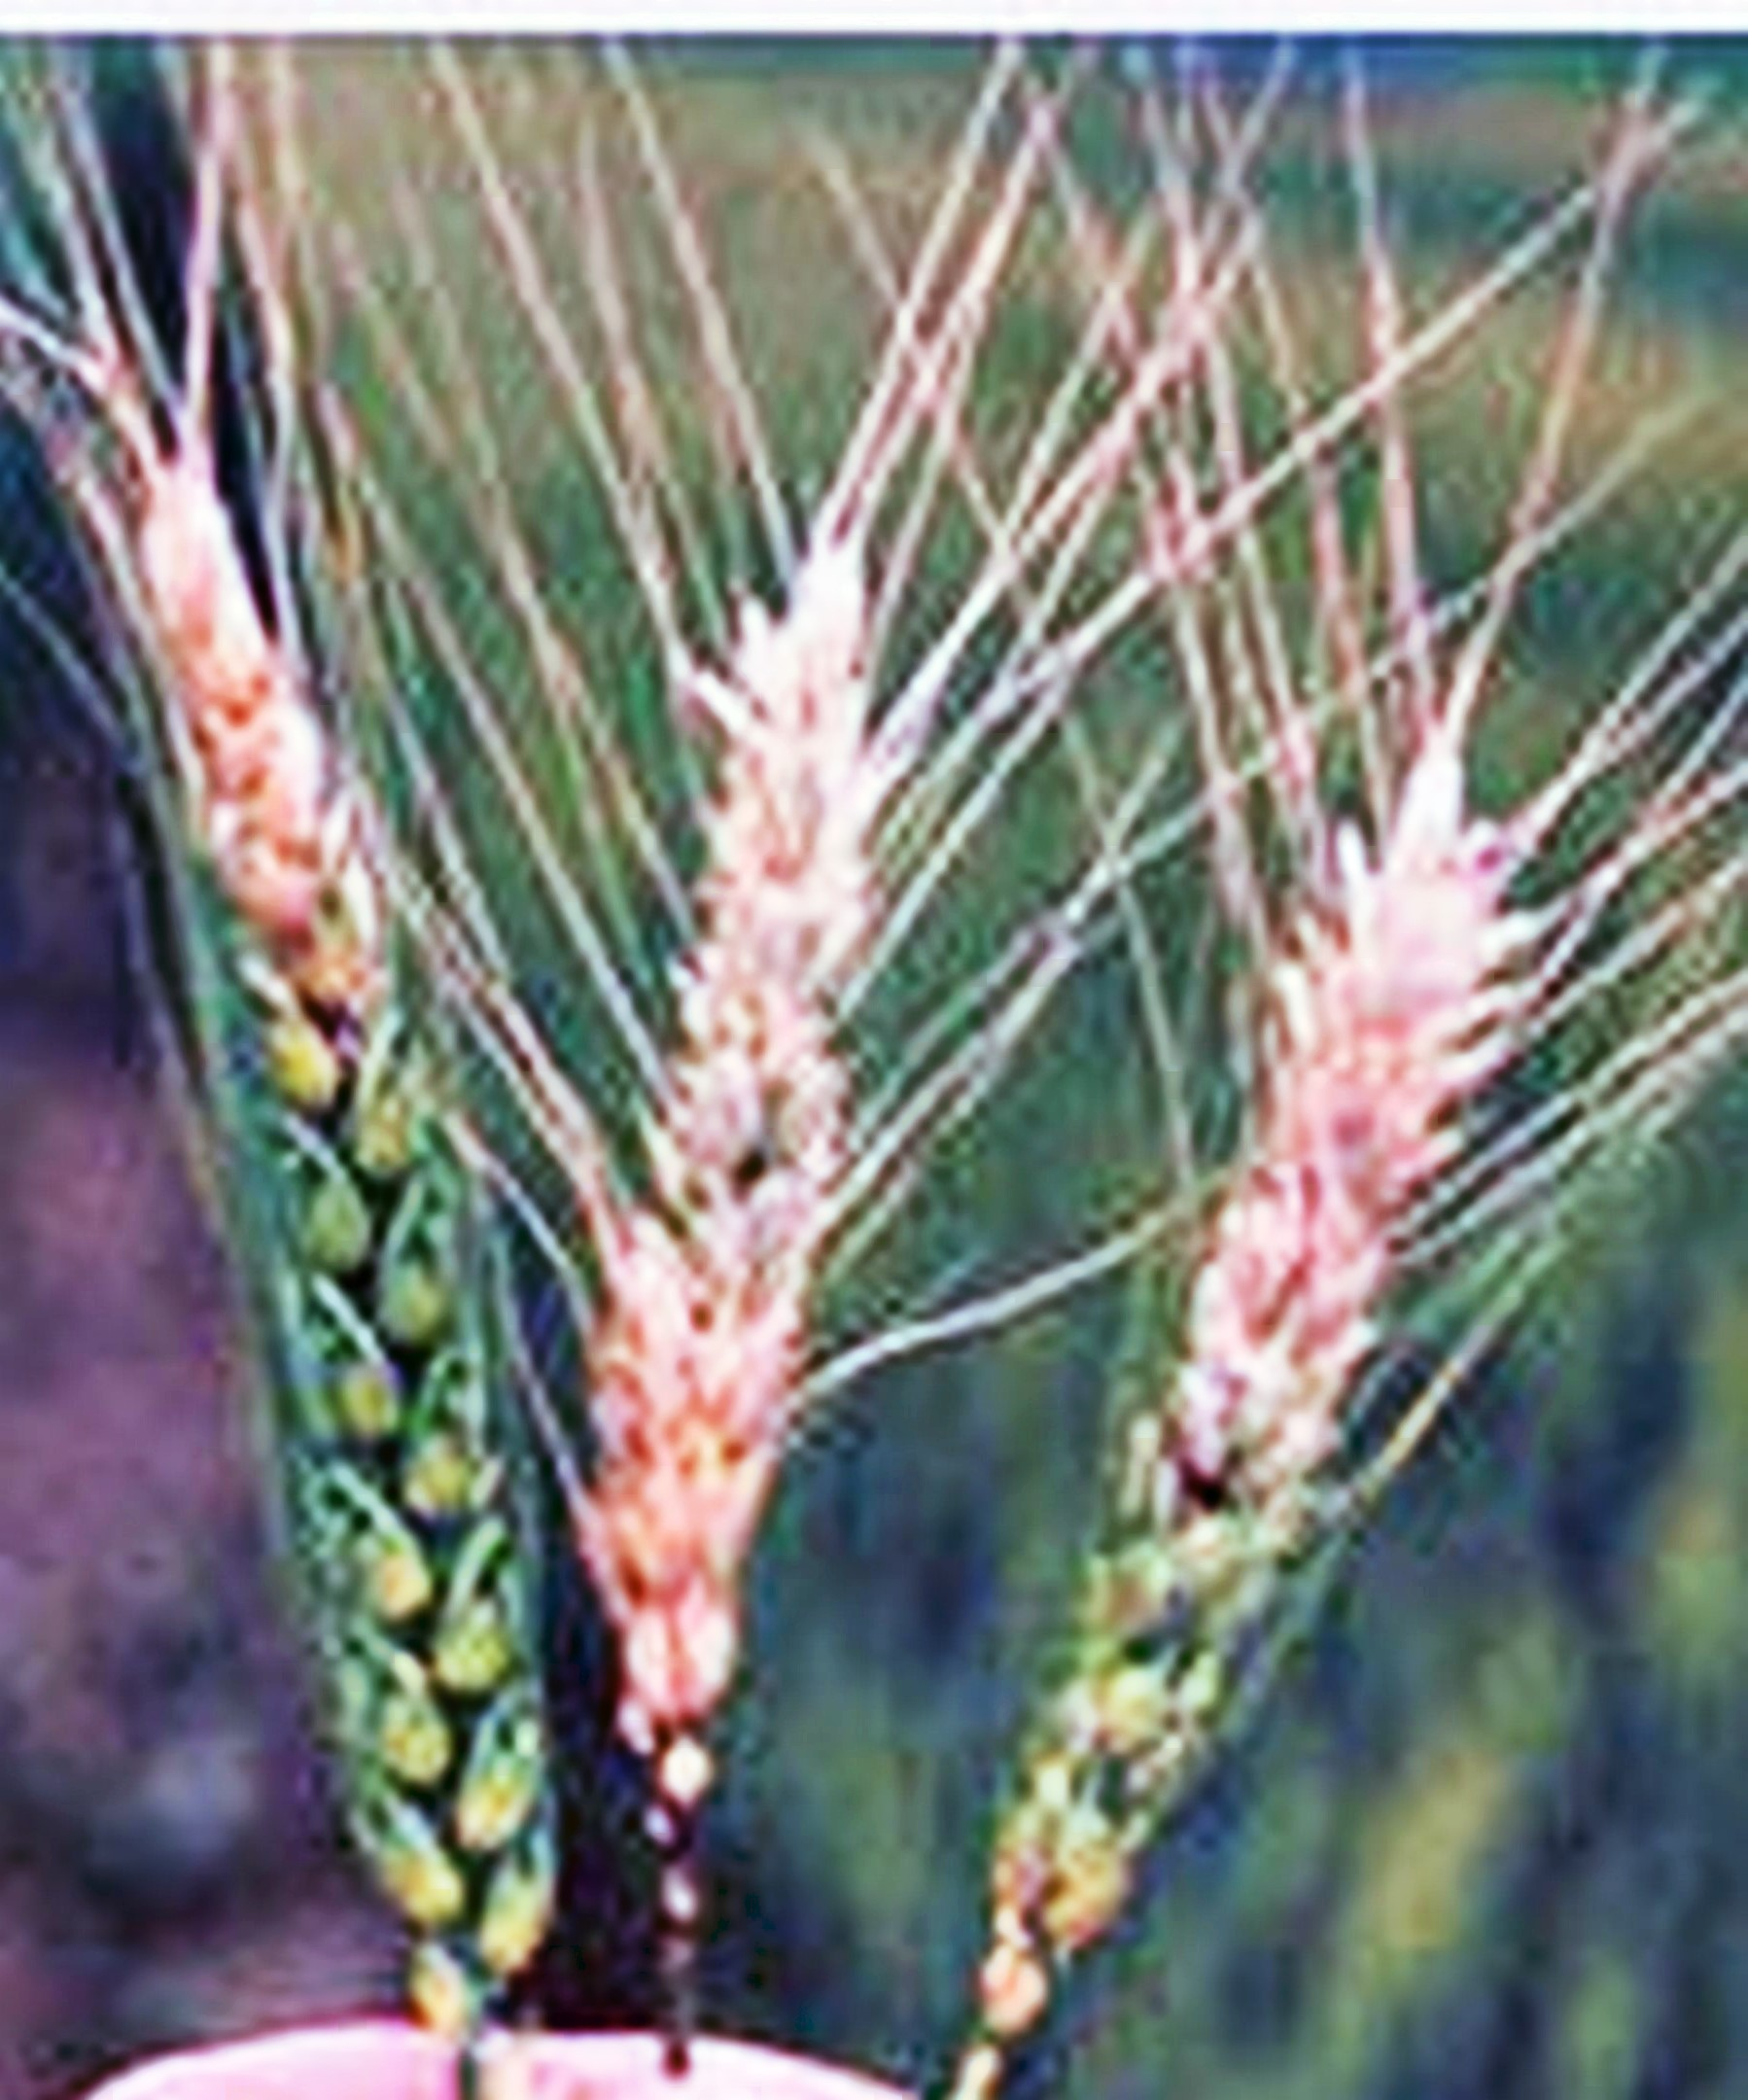Wheat scab: (87, 448, 591, 2006), (965, 799, 1558, 1990)
